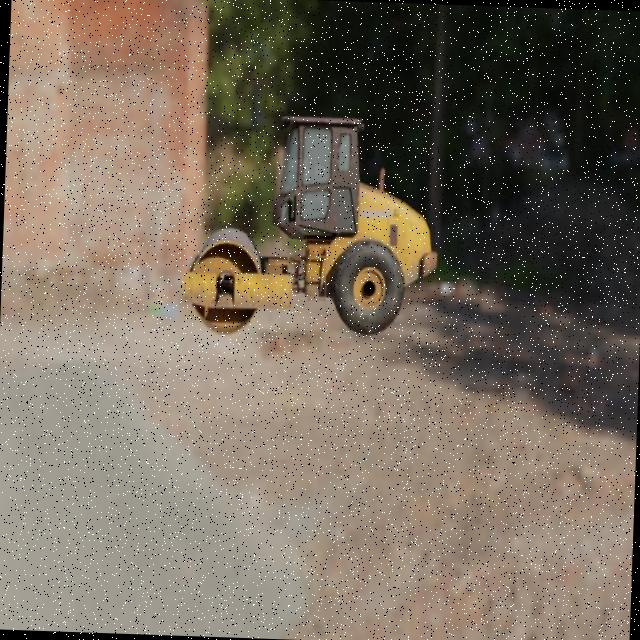Roller: (180, 112, 441, 343)
